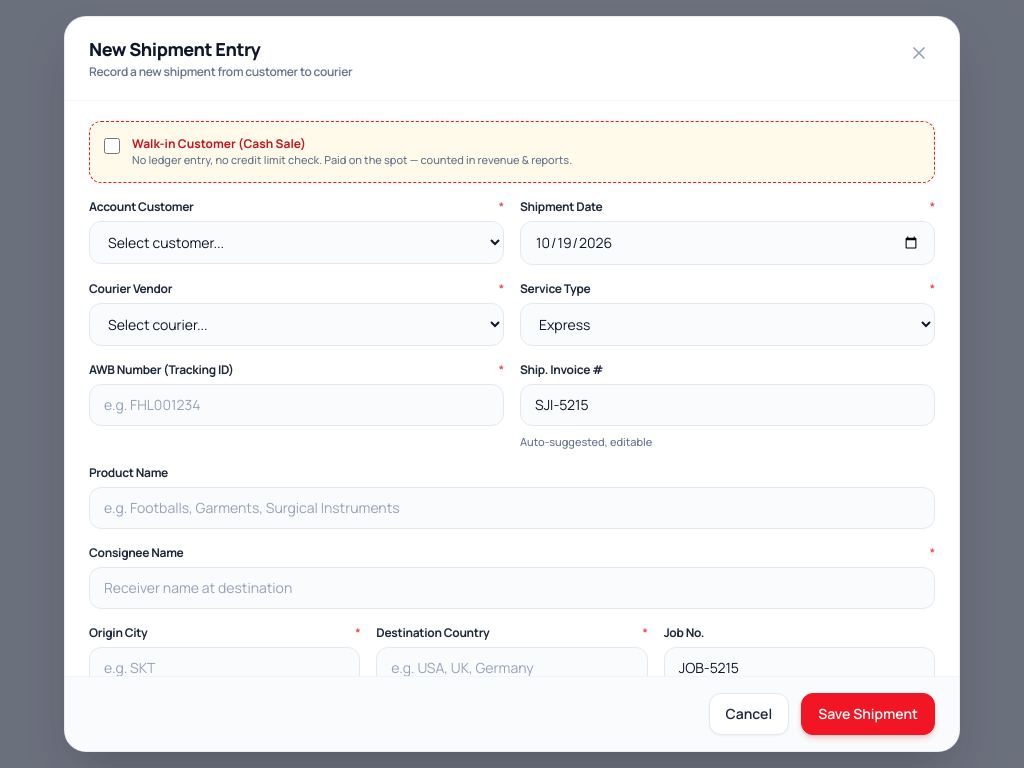
Component: ShipmentModal & Walk-in Toggle › toggles walk-in customer mode properly
expect the dropdown with test id "shipment-customer-select" is shown: met, box [89,221,504,264]
Check walk-in toggle
Click the checkbox with test id "shipment-walkin-toggle" at (112, 146), box [104,138,120,154]
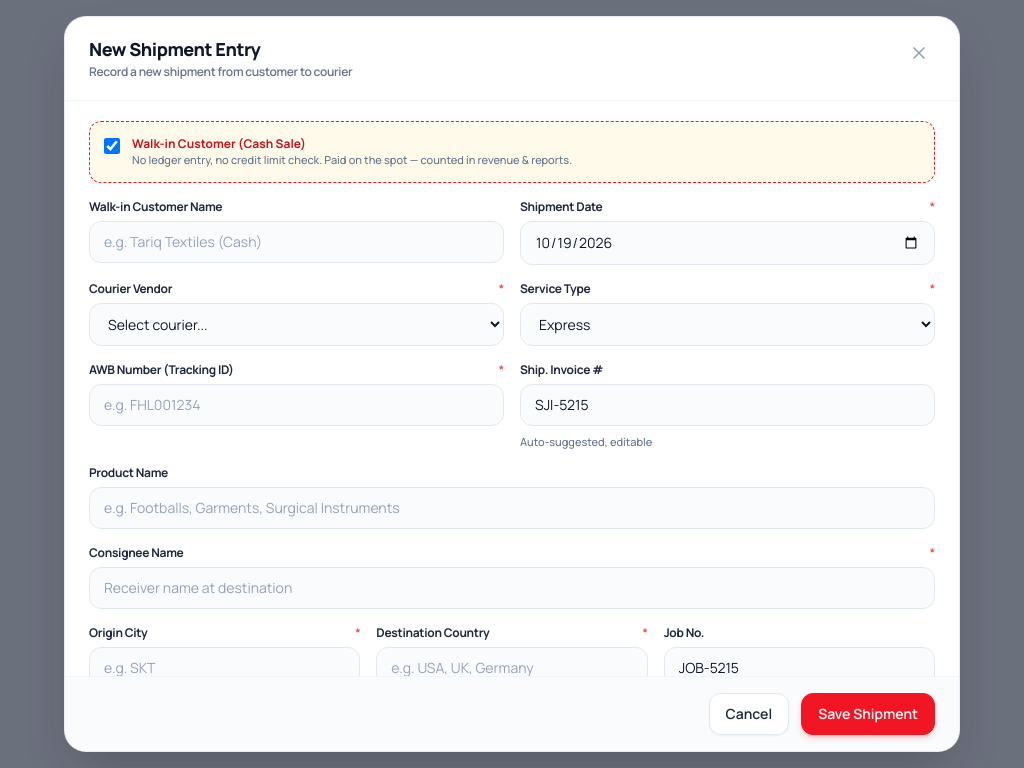
expect the field with test id "shipment-walkin-name-input" is shown: met, box [89,221,504,263]
